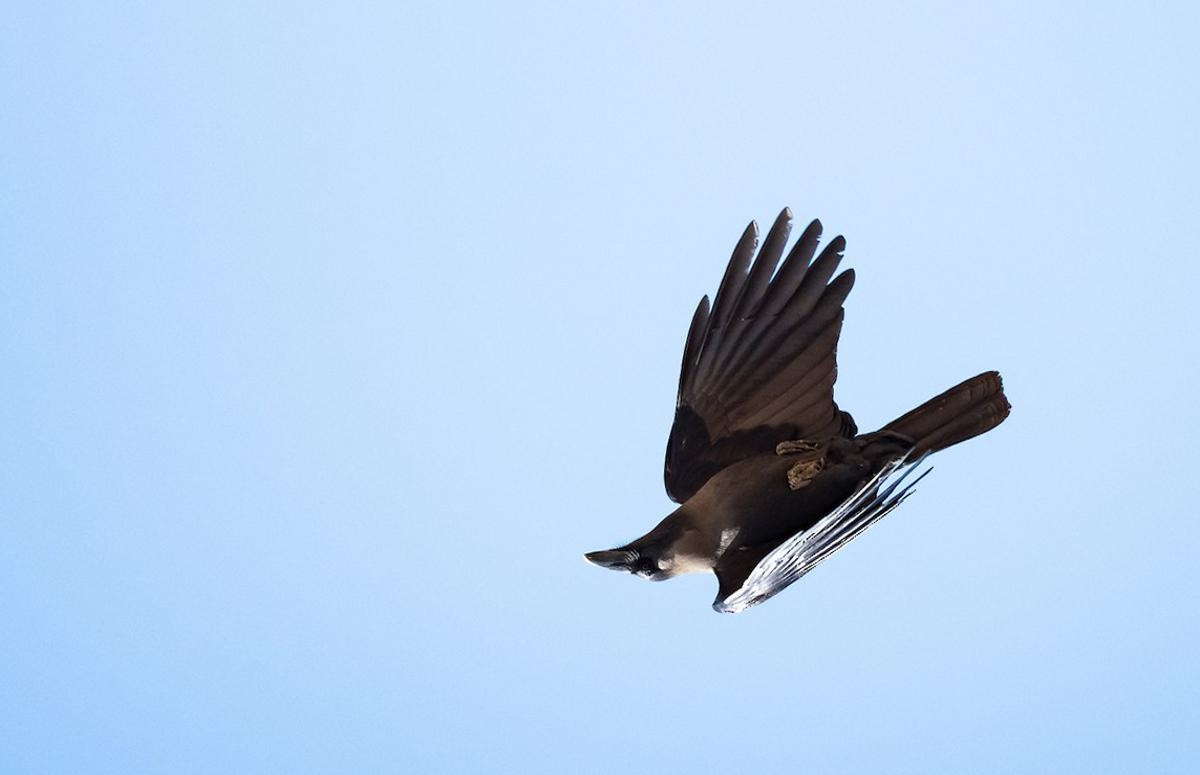crow: (570, 175, 1015, 634)
